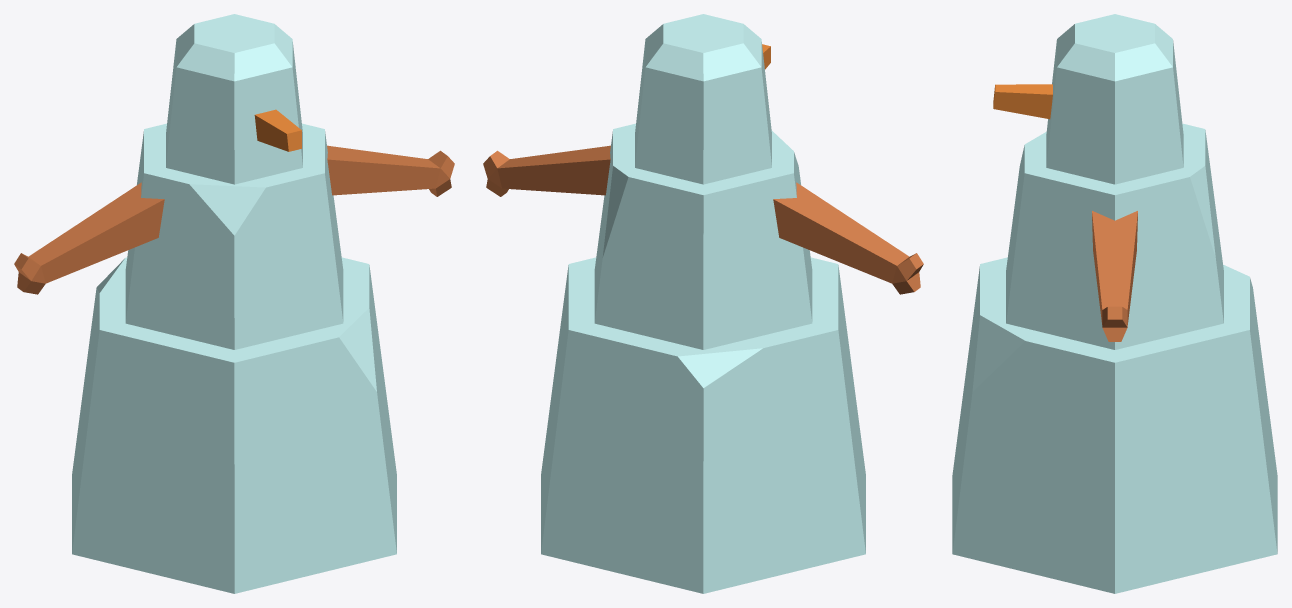
Rendered from snowman.fbx.
3 renders of one model, left to right at view 1: azimuth 30°, elevation 25°; view 2: azimuth 150°, elevation 25°; view 3: azimuth 270°, elevation 25°, orthographic.
Parts seen in each view (by area): view 1: snowman; view 2: snowman; view 3: snowman.
Part boxes in pixels (x1,y1,x2,y2): snowman: [14, 14, 454, 593]; snowman: [483, 14, 923, 593]; snowman: [952, 14, 1277, 593].
Size of the model in its own units: 6.93 by 7.36 by 4.5.
